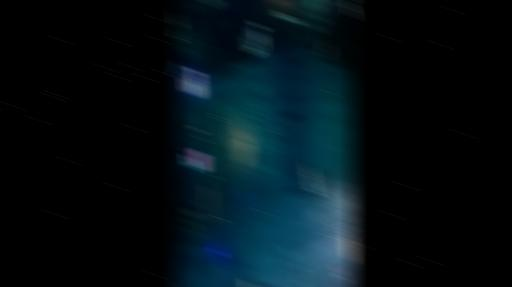Fish: (244, 21, 265, 54), (306, 163, 319, 194), (343, 232, 354, 261), (309, 207, 324, 228), (320, 173, 331, 194), (277, 13, 300, 22), (275, 252, 286, 270), (284, 243, 295, 260), (174, 63, 183, 79), (345, 2, 354, 17), (297, 264, 303, 285), (271, 121, 282, 130), (262, 112, 271, 122), (323, 43, 329, 58), (334, 265, 343, 274), (288, 118, 294, 131), (256, 94, 265, 101), (258, 224, 267, 231), (264, 221, 273, 228), (256, 117, 262, 127), (289, 190, 308, 193), (274, 132, 280, 141), (285, 115, 302, 118), (247, 111, 256, 116), (248, 131, 257, 136), (251, 118, 257, 125), (347, 43, 353, 50), (266, 237, 272, 244), (252, 107, 260, 112), (256, 91, 267, 94), (173, 284, 180, 286), (257, 229, 259, 234), (300, 195, 302, 199)
